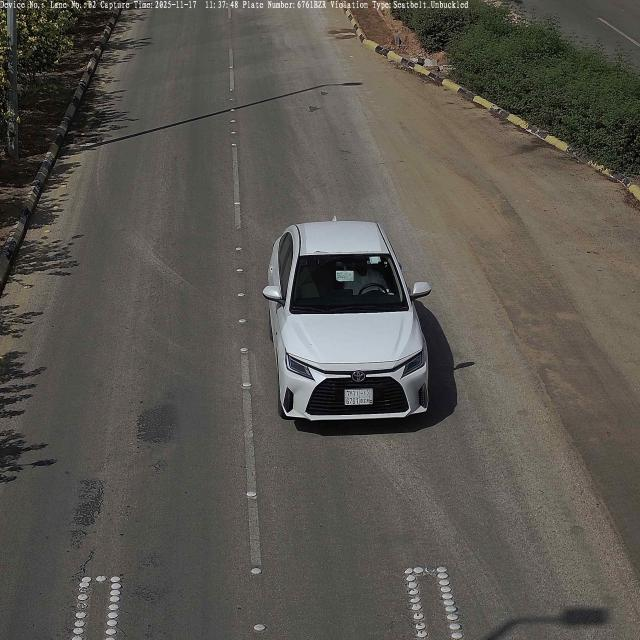person_without_seatbelt: (348, 255, 390, 307)
